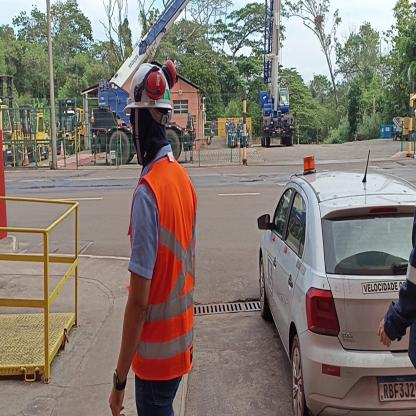Balaclava: (130, 110, 168, 162)
Capacete: (126, 61, 171, 110)
colete: (133, 169, 197, 379)
